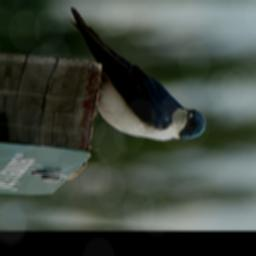Swallow: (53, 5, 218, 143)
